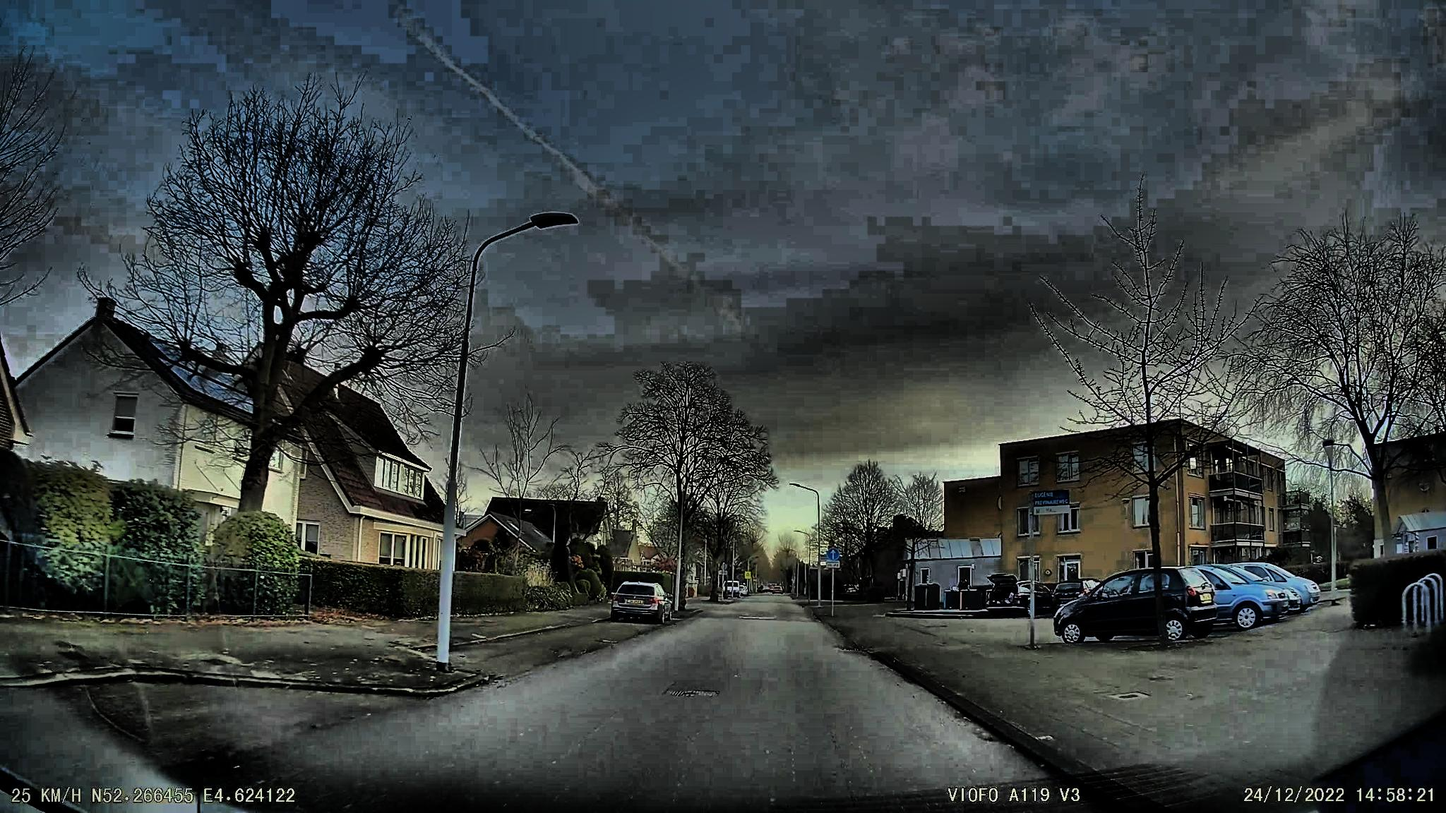Roads: (0, 593, 1059, 813)
